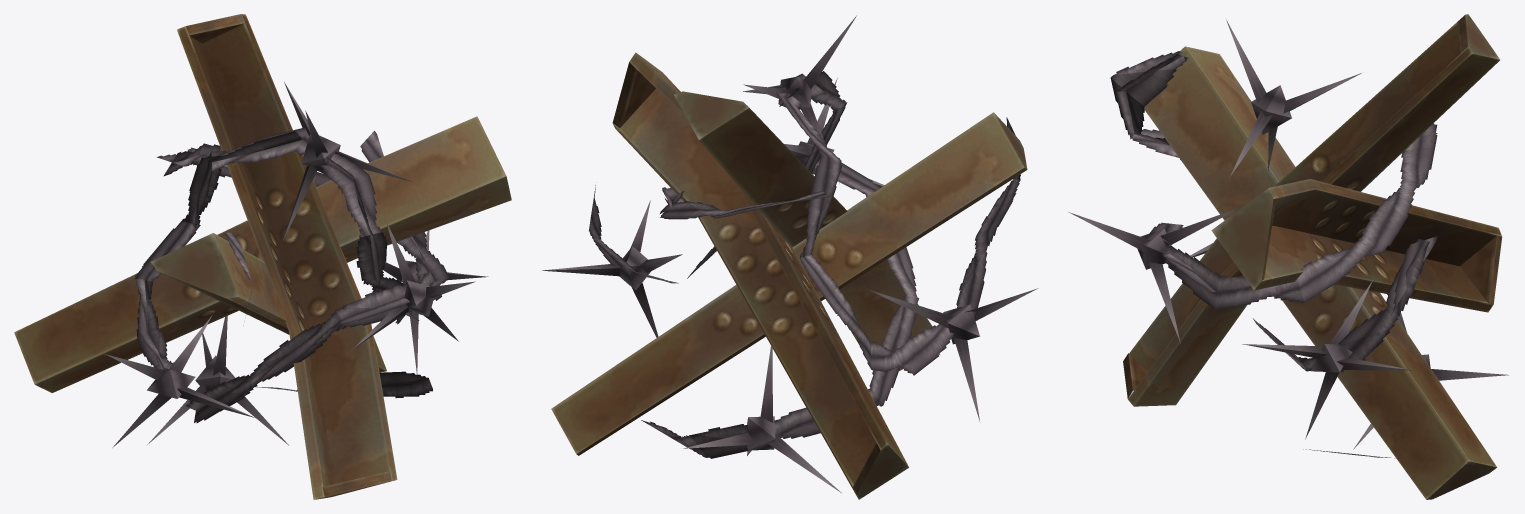
3 renders of one model, left to right at view 1: azimuth 30°, elevation 25°; view 2: azimuth 150°, elevation 25°; view 3: azimuth 270°, elevation 25°, orthographic. The views are drawn at different scales.
Visible parts, largest first — view 1: barbed_hedgehog.model-MeshNodes["barbed_hedgehog"], barbed_hedgehog.model-MeshNodes["barbed_wire"]; view 2: barbed_hedgehog.model-MeshNodes["barbed_hedgehog"], barbed_hedgehog.model-MeshNodes["barbed_wire"]; view 3: barbed_hedgehog.model-MeshNodes["barbed_hedgehog"], barbed_hedgehog.model-MeshNodes["barbed_wire"].
Part boxes in pixels (left/top/right/bottom): barbed_hedgehog.model-MeshNodes["barbed_hedgehog"]: left=14, top=14, right=511, bottom=499; barbed_hedgehog.model-MeshNodes["barbed_wire"]: left=104, top=82, right=488, bottom=447; barbed_hedgehog.model-MeshNodes["barbed_hedgehog"]: left=551, top=52, right=1027, bottom=499; barbed_hedgehog.model-MeshNodes["barbed_wire"]: left=542, top=15, right=1038, bottom=492; barbed_hedgehog.model-MeshNodes["barbed_hedgehog"]: left=1123, top=14, right=1502, bottom=499; barbed_hedgehog.model-MeshNodes["barbed_wire"]: left=1068, top=19, right=1508, bottom=458.
Size of the model in its own units: 1.83 by 1.68 by 1.65.
2 materials, 2 textured.
